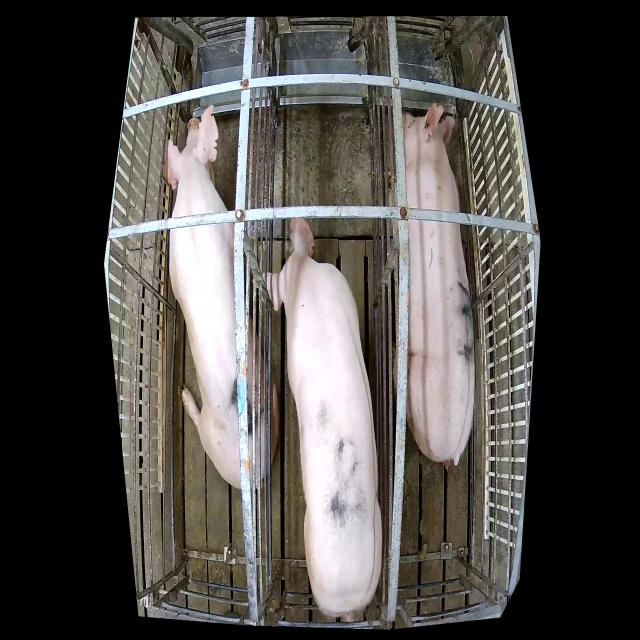pig: (252, 218, 382, 617), (163, 104, 280, 489), (389, 108, 475, 470)
